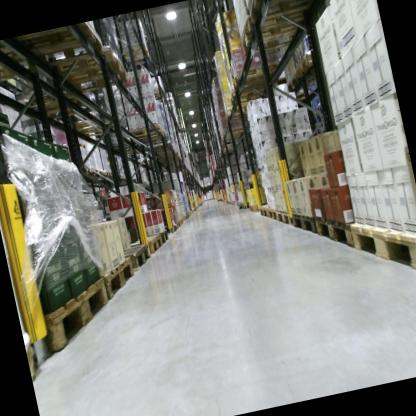pallet: (30, 271, 120, 357), (345, 207, 416, 287), (10, 20, 109, 71), (233, 0, 324, 55), (45, 44, 133, 99), (19, 84, 92, 127), (245, 0, 342, 25), (91, 257, 139, 303), (313, 206, 356, 256), (0, 35, 37, 87), (228, 79, 276, 110), (229, 63, 280, 92), (70, 114, 114, 144), (115, 239, 152, 272), (284, 68, 323, 98), (118, 42, 154, 69), (127, 232, 164, 258), (291, 50, 324, 78), (291, 205, 319, 237), (24, 335, 43, 381), (125, 123, 165, 144), (223, 104, 253, 123), (274, 208, 295, 228), (248, 201, 265, 216), (157, 229, 171, 247), (164, 221, 179, 235), (258, 203, 273, 217), (267, 205, 279, 222), (78, 162, 92, 176), (153, 85, 168, 98), (88, 166, 99, 177), (102, 168, 112, 179), (96, 166, 105, 177), (236, 200, 245, 211), (241, 201, 250, 211), (178, 216, 185, 226), (175, 219, 181, 230), (119, 173, 126, 180)
